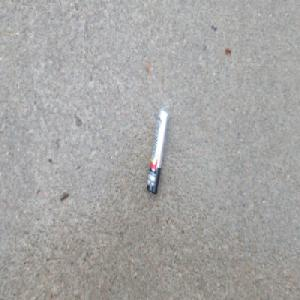Battery: (146, 109, 168, 196)
